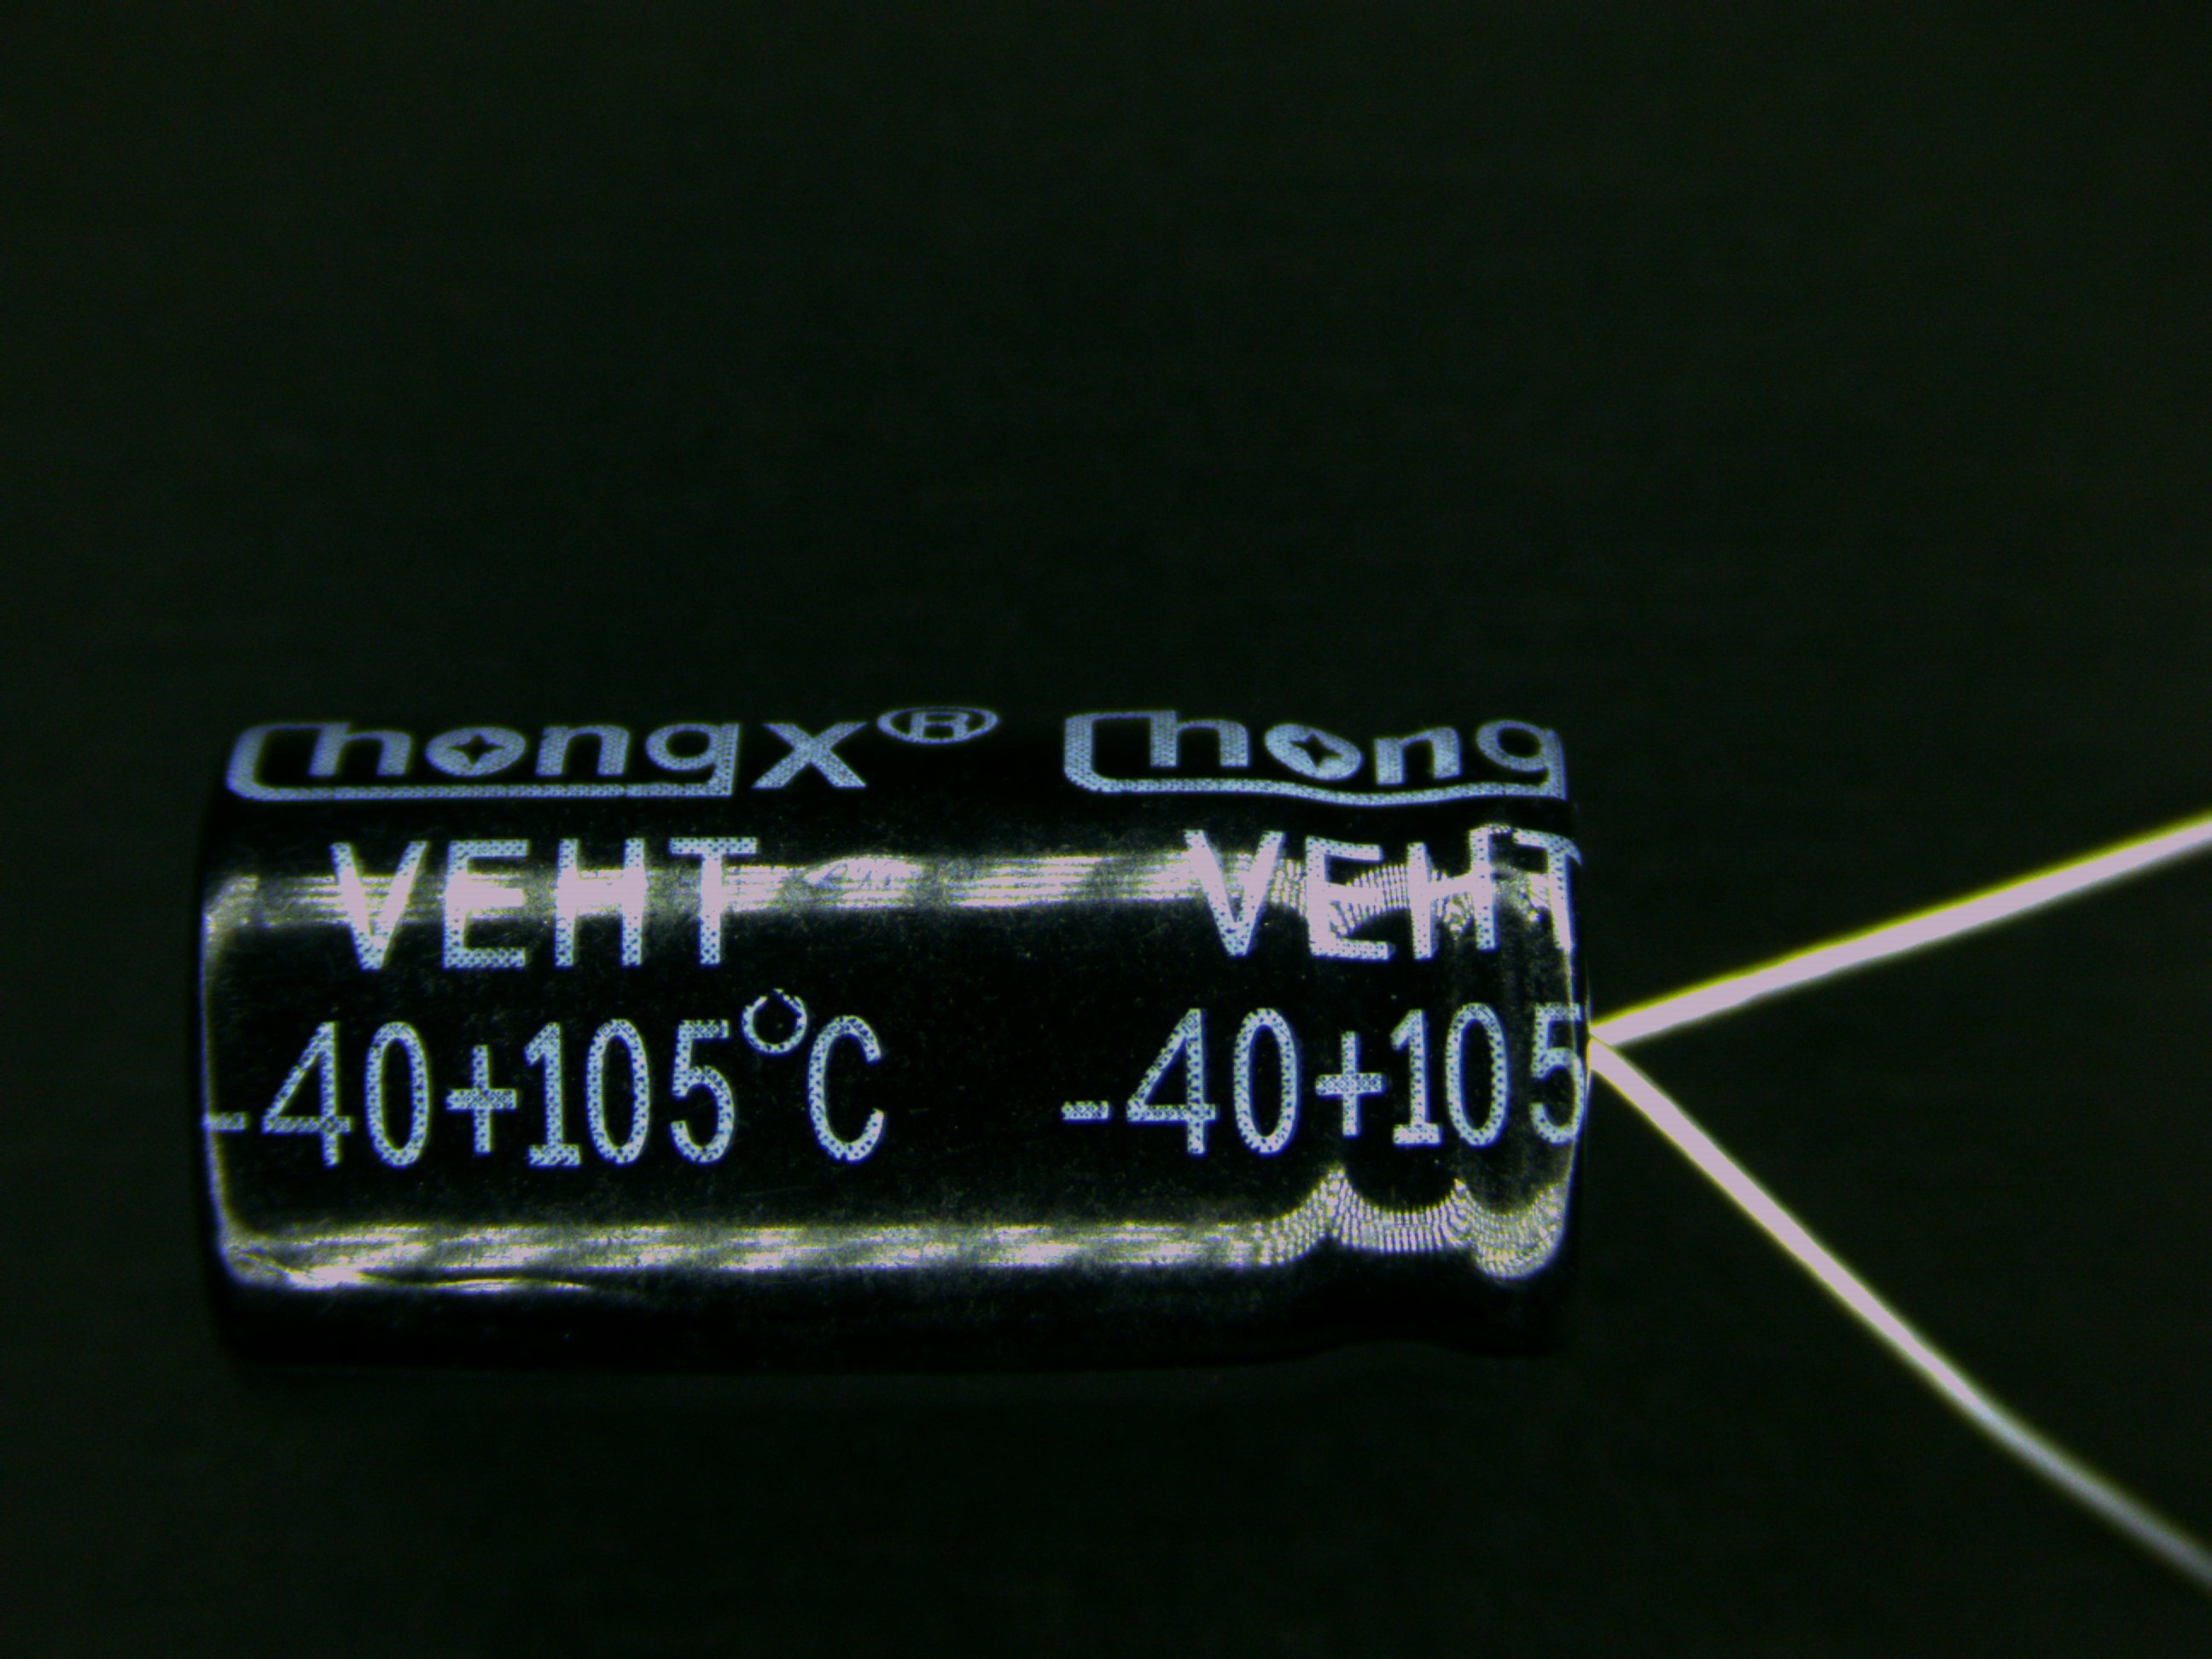c3: (183, 709, 1890, 1363)
